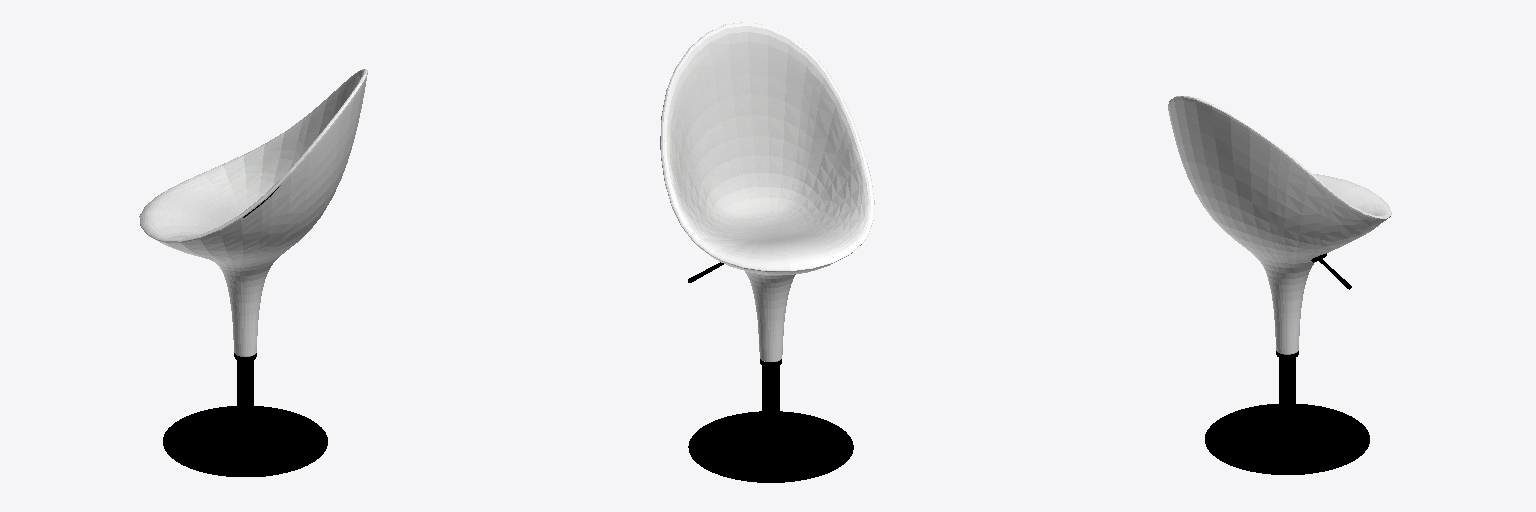
The picture shows the model from 3 angles: view 1: azimuth 30°, elevation 25°; view 2: azimuth 150°, elevation 25°; view 3: azimuth 270°, elevation 25°; orthographic projection.
Parts seen in each view (by area): view 1: Chair001; view 2: Chair001; view 3: Chair001.
Boxes of the visible parts, x1=… form: Chair001: x1=139, y1=69, x2=367, y2=476; Chair001: x1=660, y1=22, x2=874, y2=482; Chair001: x1=1168, y1=96, x2=1391, y2=474.
Bounding box in the file's own units: 0.4932 × 0.9132 × 0.4918.
3 materials, 1 textured.